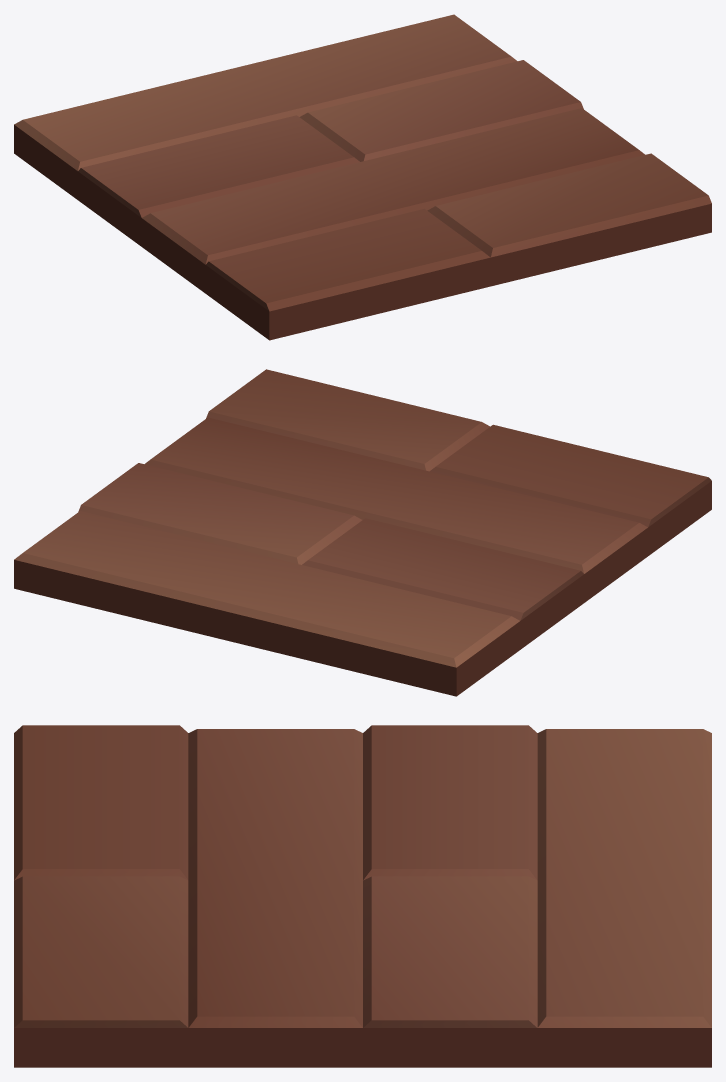
Rendered from floor-wood-small.glb.
3 views of the same model, one above another, from view 1: azimuth 30°, elevation 25°; view 2: azimuth 150°, elevation 25°; view 3: azimuth 270°, elevation 25° (orthographic). The views are drawn at different scales.
Parts seen in each view (by area): view 1: floor-wood-small; view 2: floor-wood-small; view 3: floor-wood-small.
Boxes of the visible parts, x1,y1,x2,y2 form: floor-wood-small: (14,14,711,340); floor-wood-small: (14,369,711,696); floor-wood-small: (14,725,711,1067).
Size of the model in its own units: 1.5 by 0.1124 by 1.5.
